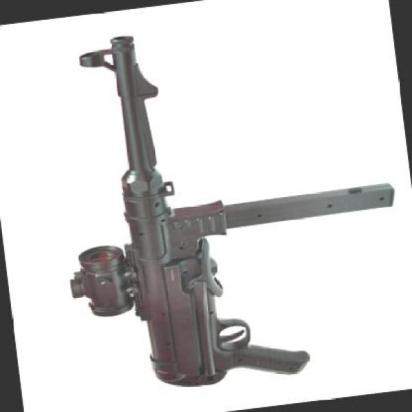Gun: (40, 0, 412, 407)
